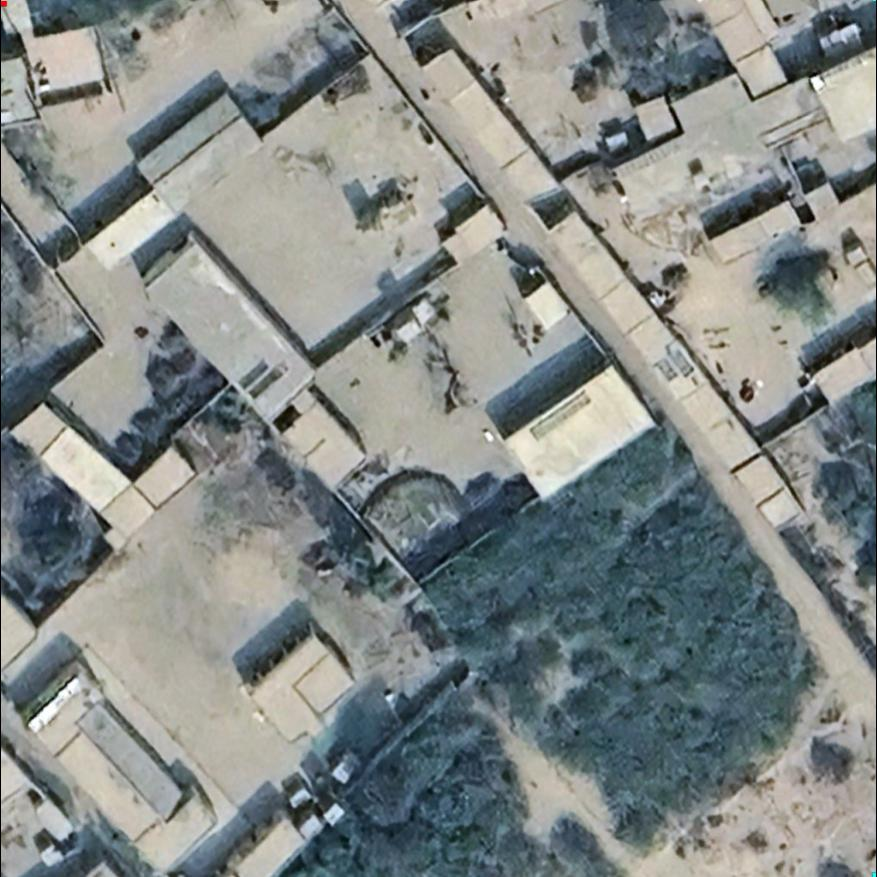Solarpanel: (230, 351, 298, 408), (647, 337, 705, 384)
